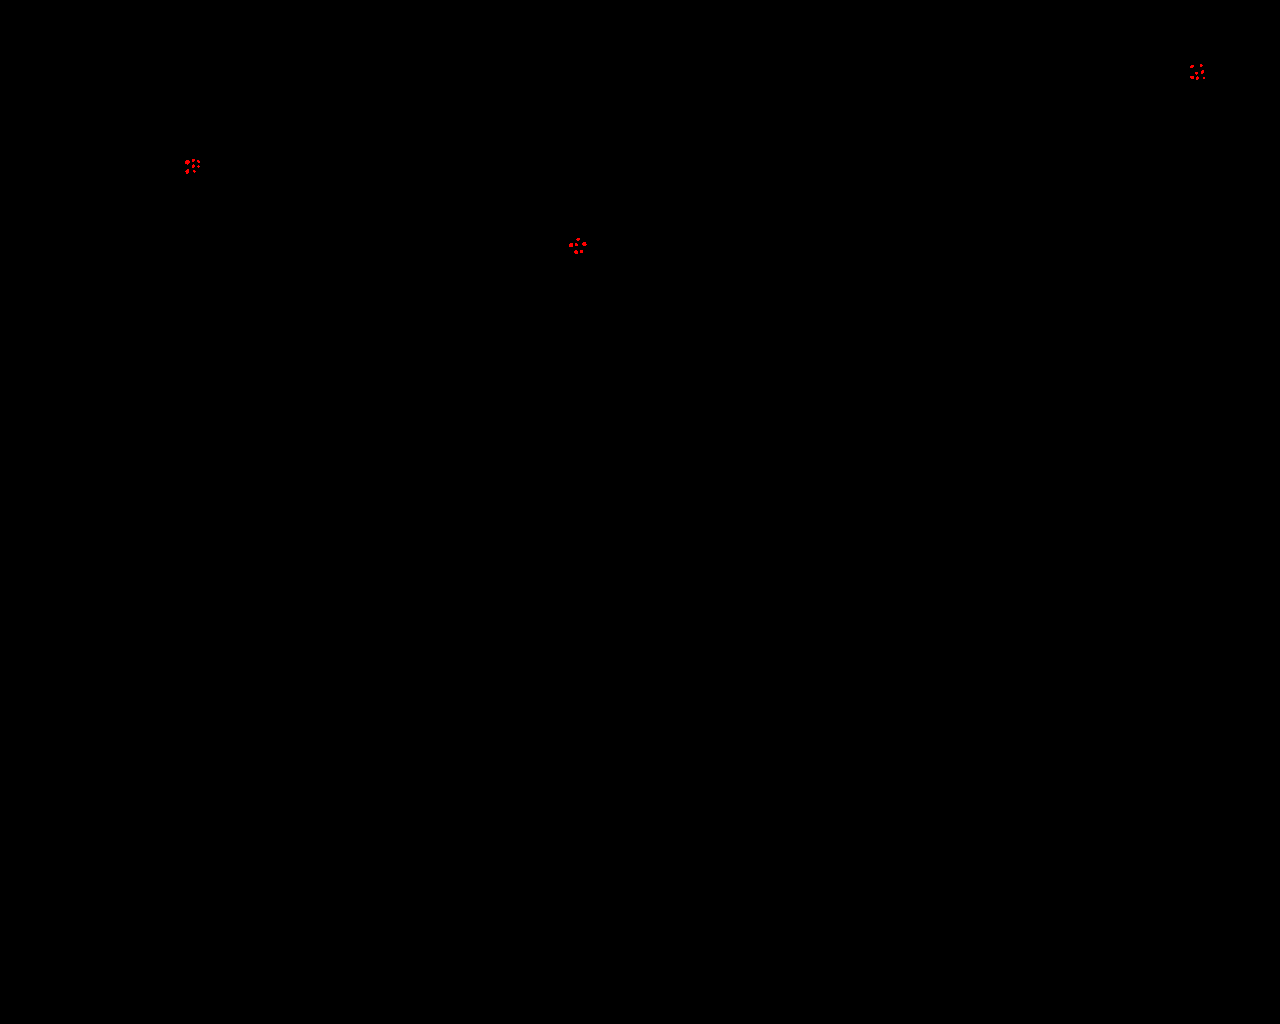Target: (185, 160, 190, 165), (185, 169, 189, 174), (574, 250, 578, 254), (582, 242, 587, 246), (1190, 65, 1194, 68), (1201, 70, 1204, 74), (1190, 76, 1194, 79), (192, 164, 195, 168), (576, 238, 580, 241), (1200, 64, 1203, 67), (1195, 72, 1198, 75), (192, 159, 195, 162), (193, 170, 196, 173), (569, 243, 573, 247), (580, 250, 583, 253), (1196, 76, 1198, 80), (197, 160, 200, 163), (197, 165, 200, 168), (575, 243, 578, 246), (1203, 77, 1205, 79)
